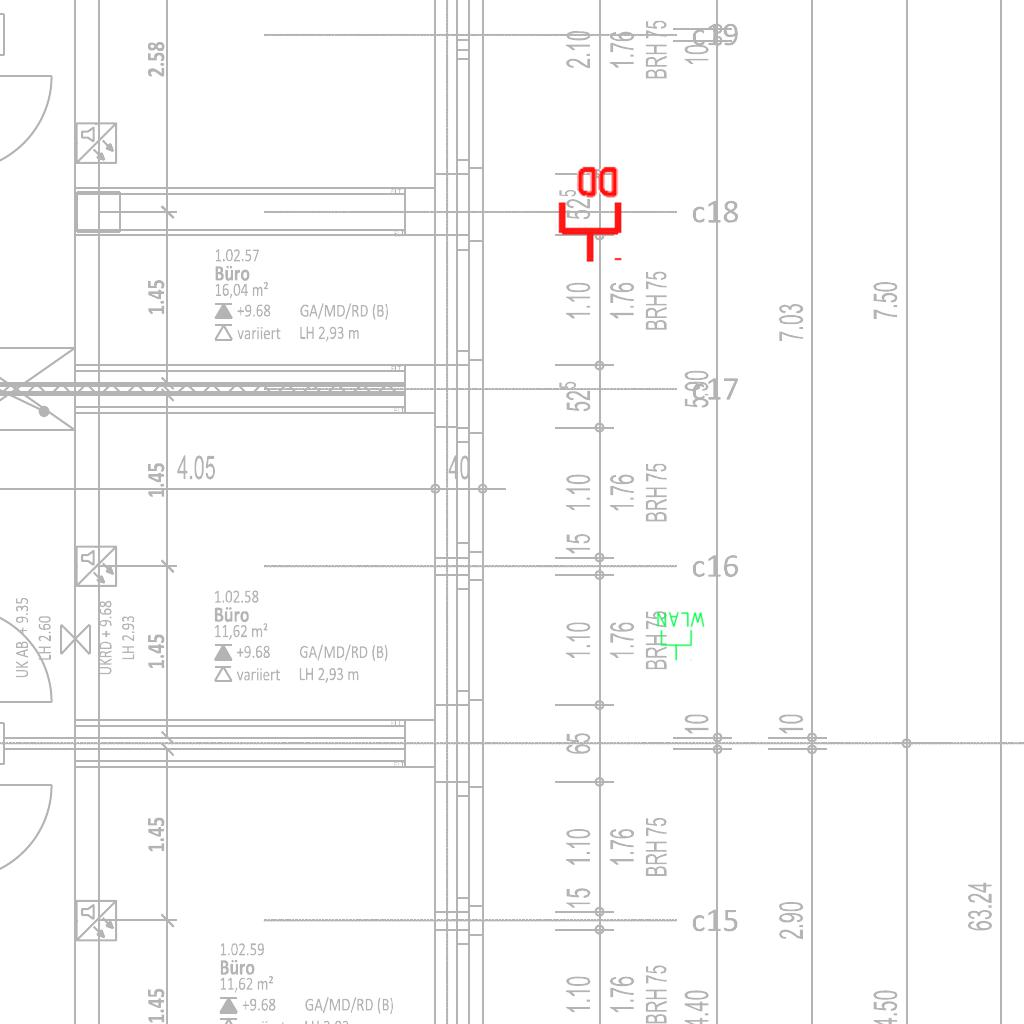Datenanschluss_zweifach: (554, 162, 623, 265)
WLAN: (655, 610, 707, 662)
